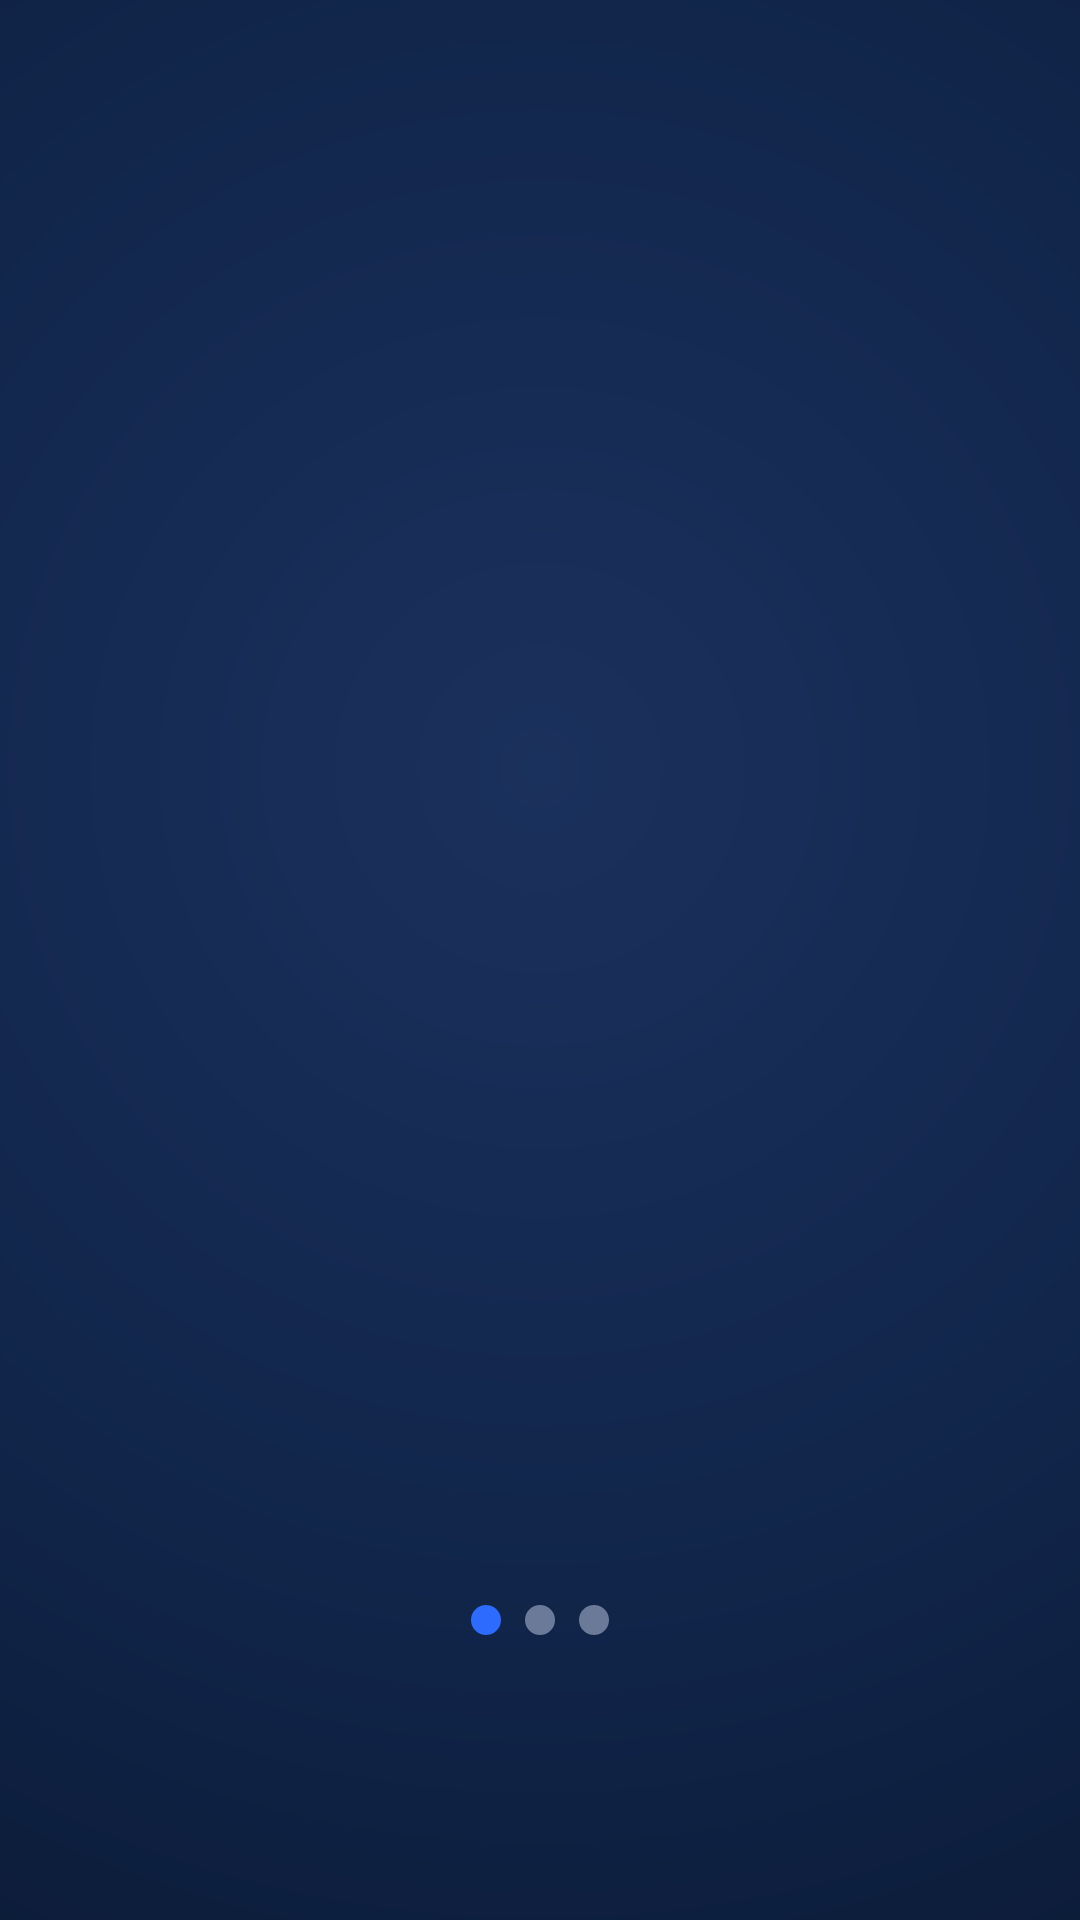

Screen size 1080 x 1920. Icon name, then its center in pixels as [x,y]:
dot: [486,1620], [540,1620], [594,1620]
